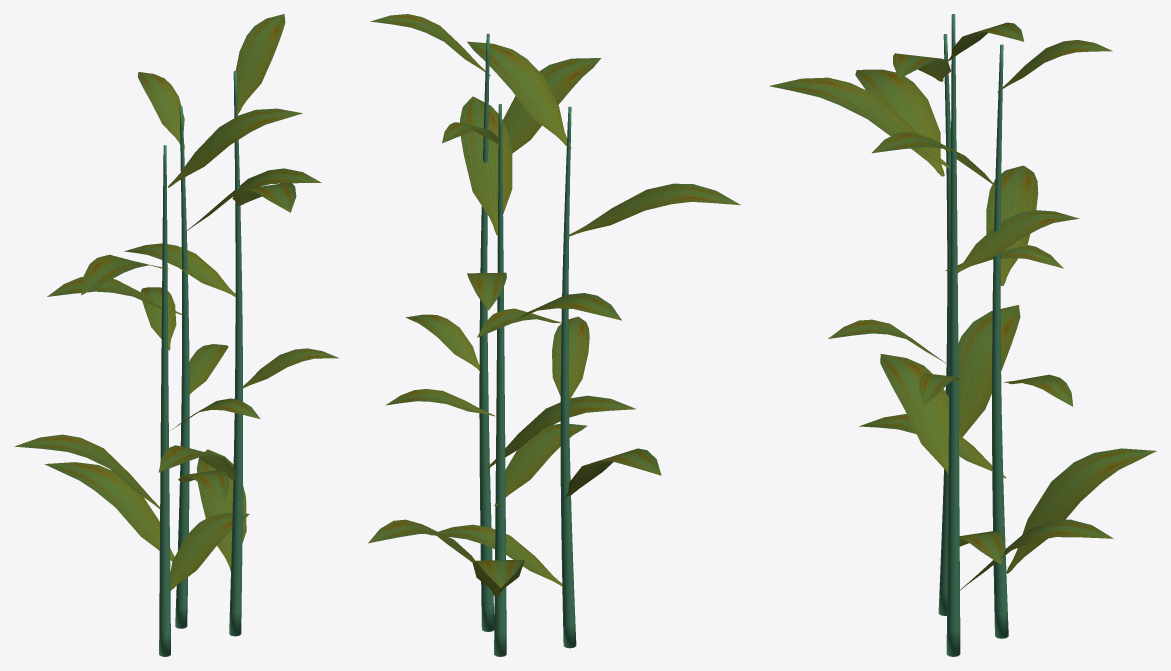
The picture shows the model from 3 angles, left to right: view 1: azimuth 30°, elevation 25°; view 2: azimuth 150°, elevation 25°; view 3: azimuth 270°, elevation 25°; orthographic projection. The views are drawn at different scales.
Visible parts, largest first — view 1: 海草3_细茎_02.001, 海草3_细茎_01.001, 海草3_细茎_03.001, 海草3_叶片_03_01.001, 海草3_叶片_02_06.001, 海草3_叶片_01_06.001, 海草3_叶片_01_01.001, 海草3_叶片_01_02.001, 海草3_叶片_03_06.001, 海草3_叶片_02_04.001, 海草3_叶片_02_01.001, 海草3_叶片_01_05.001 (+9 smaller); view 2: 海草3_细茎_01.001, 海草3_细茎_03.001, 海草3_细茎_02.001, 海草3_叶片_03_05.001, 海草3_叶片_01_06.001, 海草3_叶片_02_05.001, 海草3_叶片_01_05.001, 海草3_叶片_03_02.001, 海草3_叶片_01_03.001, 海草3_叶片_02_02.001, 海草3_叶片_01_01.001, 海草3_叶片_01_02.001 (+9 smaller); view 3: 海草3_细茎_02.001, 海草3_细茎_03.001, 海草3_叶片_01_02.001, 海草3_叶片_03_01.001, 海草3_叶片_02_02.001, 海草3_叶片_02_05.001, 海草3_叶片_01_05.001, 海草3_叶片_03_04.001, 海草3_细茎_01.001, 海草3_叶片_02_04.001, 海草3_叶片_02_01.001, 海草3_叶片_03_05.001 (+9 smaller).
Boxes of the visible parts, x1,y1,x2,y2 form: 海草3_细茎_02.001: [229, 71, 242, 636]; 海草3_细茎_01.001: [159, 145, 170, 656]; 海草3_细茎_03.001: [175, 106, 189, 628]; 海草3_叶片_03_01.001: [44, 462, 174, 561]; 海草3_叶片_02_06.001: [235, 14, 285, 113]; 海草3_叶片_01_06.001: [168, 108, 302, 187]; 海草3_叶片_01_01.001: [170, 512, 249, 591]; 海草3_叶片_01_02.001: [14, 434, 160, 509]; 海草3_叶片_03_06.001: [137, 72, 184, 148]; 海草3_叶片_02_04.001: [124, 243, 235, 296]; 海草3_叶片_02_01.001: [196, 449, 246, 571]; 海草3_叶片_01_05.001: [81, 254, 169, 294]; 海草3_细茎_01.001: [560, 106, 576, 648]; 海草3_细茎_03.001: [494, 104, 506, 656]; 海草3_细茎_02.001: [479, 33, 494, 631]; 海草3_叶片_03_05.001: [460, 96, 512, 235]; 海草3_叶片_01_06.001: [467, 41, 571, 148]; 海草3_叶片_02_05.001: [503, 58, 601, 153]; 海草3_叶片_01_05.001: [569, 183, 740, 236]; 海草3_叶片_03_02.001: [494, 424, 587, 506]; 海草3_叶片_01_03.001: [552, 316, 589, 401]; 海草3_叶片_02_02.001: [486, 395, 636, 470]; 海草3_叶片_01_01.001: [429, 524, 563, 587]; 海草3_叶片_01_02.001: [565, 448, 661, 497]; 海草3_细茎_02.001: [946, 14, 960, 656]; 海草3_细茎_03.001: [992, 44, 1008, 638]; 海草3_叶片_01_02.001: [945, 305, 1020, 436]; 海草3_叶片_03_01.001: [1006, 448, 1156, 573]; 海草3_叶片_02_02.001: [880, 354, 948, 473]; 海草3_叶片_02_05.001: [769, 77, 950, 168]; 海草3_叶片_01_05.001: [855, 69, 944, 176]; 海草3_叶片_03_04.001: [986, 165, 1038, 285]; 海草3_细茎_01.001: [938, 34, 950, 615]; 海草3_叶片_02_04.001: [957, 210, 1079, 272]; 海草3_叶片_02_01.001: [960, 519, 1113, 590]; 海草3_叶片_03_05.001: [872, 132, 999, 188].
Bounding box in the file's own units: 281 × 540 × 289.
4 materials, 3 textured.
